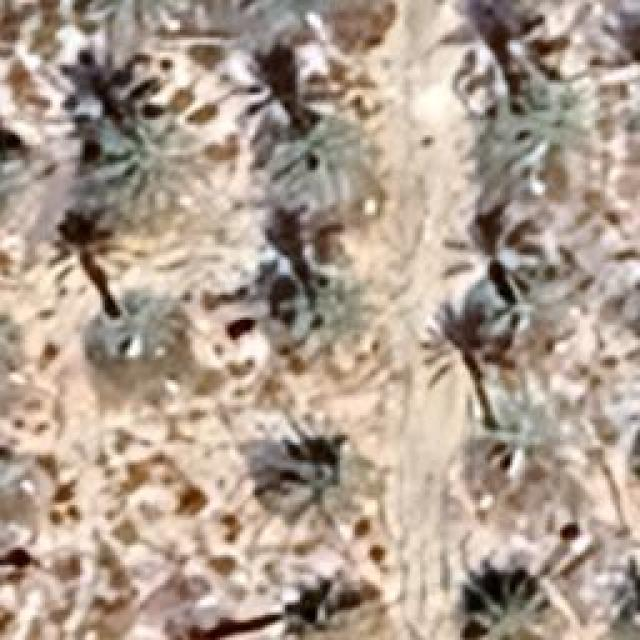PalmTree: (75, 100, 235, 235), (266, 111, 376, 209), (440, 0, 542, 105), (492, 88, 578, 190), (438, 218, 538, 292), (288, 268, 372, 352), (255, 460, 343, 538), (280, 580, 390, 638), (110, 290, 190, 365), (0, 128, 44, 262), (468, 584, 562, 638), (482, 402, 552, 472), (80, 0, 182, 40)
